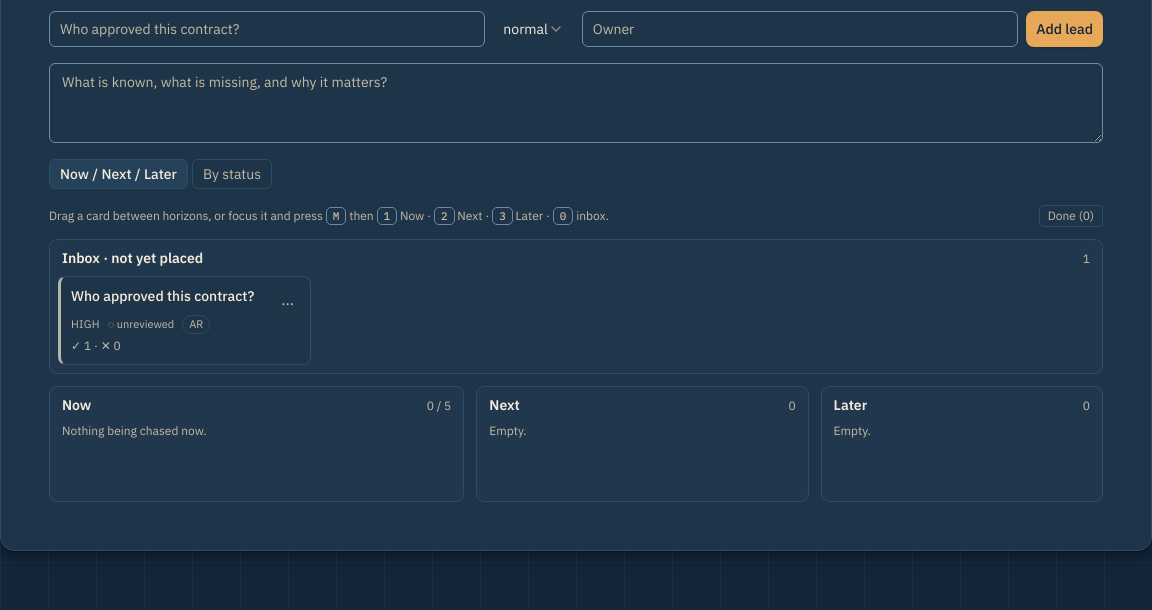
it: LeadsPanel › converts a lead to a task and moves the task along, reloading the queue each time
This screenshot has width=1152, height=610.
Expected: the text "Who approved this contract?" is shown, [71, 287, 267, 306]
Click the button "By status": (232, 174) [192, 159, 272, 189]
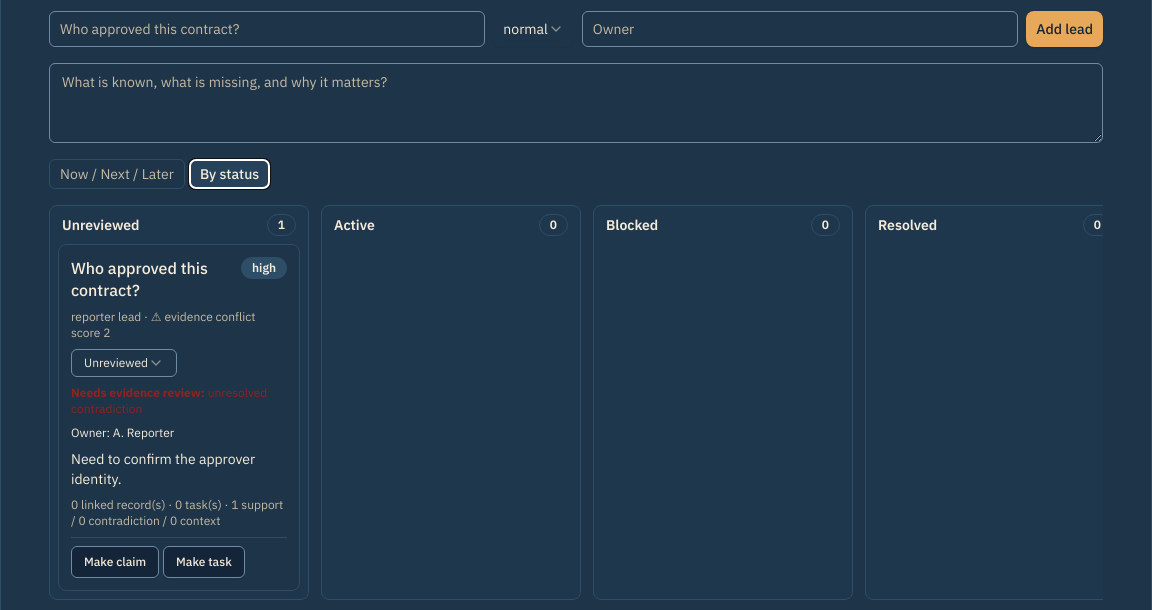
Click the button "Make task": (204, 562) [163, 546, 245, 578]
(page scrolled)
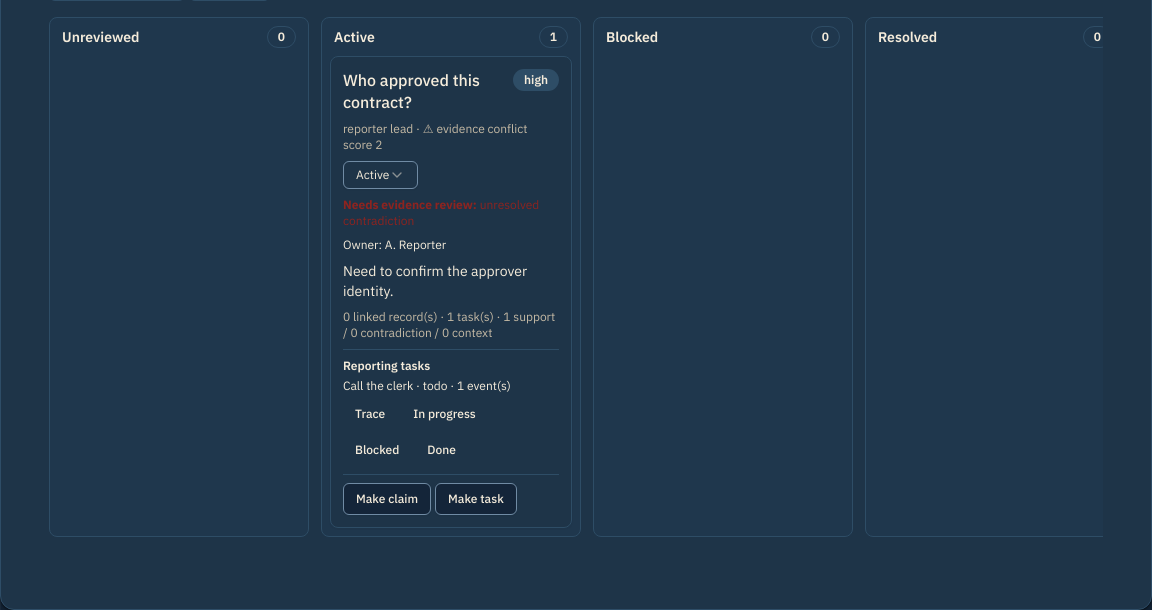
Now the text "Call the clerk · todo · 1 event(s)" is shown, box [343, 378, 511, 394]
Click the button "Done": (442, 450) [415, 434, 468, 466]
(page scrolled)
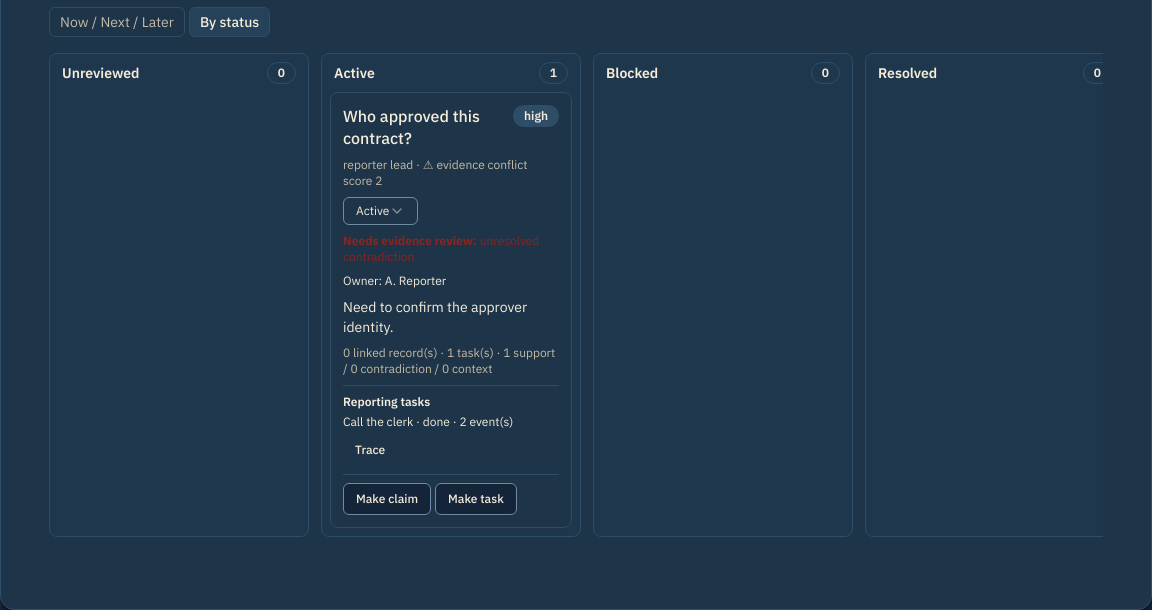
Now the text "Call the clerk · done · 2 event(s)" is shown, box [343, 414, 513, 430]
Now the button "In progress" is gone
